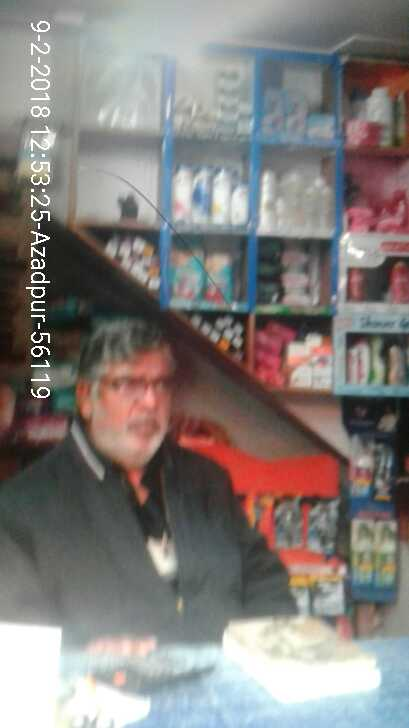venus: (270, 88, 304, 137), (304, 112, 335, 137)
